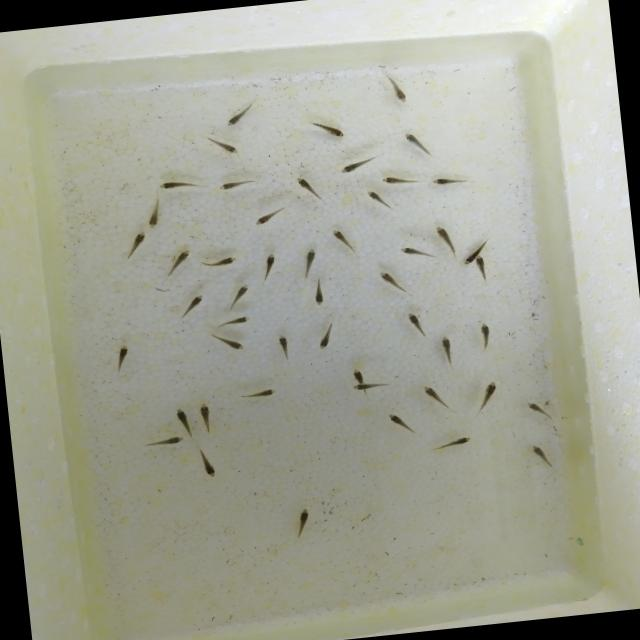fingerling: (330, 153, 390, 175), (386, 410, 423, 440), (398, 124, 432, 156), (426, 434, 474, 456), (526, 396, 562, 424), (386, 78, 419, 108), (219, 104, 257, 130), (326, 224, 361, 252), (214, 174, 258, 196), (295, 172, 325, 204), (376, 266, 410, 292), (382, 171, 428, 190), (212, 331, 250, 354), (150, 176, 203, 192), (124, 226, 154, 254), (428, 173, 477, 190), (456, 242, 490, 266), (431, 222, 460, 250), (314, 120, 352, 141), (210, 133, 240, 159), (362, 187, 392, 213), (478, 377, 502, 409), (225, 278, 252, 306), (203, 252, 244, 270), (249, 206, 282, 228), (316, 323, 340, 353), (181, 288, 207, 314), (530, 442, 554, 470), (298, 244, 320, 274), (292, 504, 314, 534), (419, 382, 444, 408), (215, 313, 256, 328), (176, 404, 196, 434), (198, 448, 218, 478), (145, 200, 164, 231), (351, 378, 393, 392), (168, 246, 192, 270), (396, 242, 428, 260), (148, 432, 184, 448), (272, 331, 295, 356), (108, 344, 134, 366), (237, 386, 280, 399), (260, 246, 278, 276), (197, 402, 215, 430), (437, 332, 455, 359), (310, 284, 331, 306), (477, 320, 492, 350), (348, 364, 374, 381), (406, 309, 422, 335), (474, 252, 488, 278)
